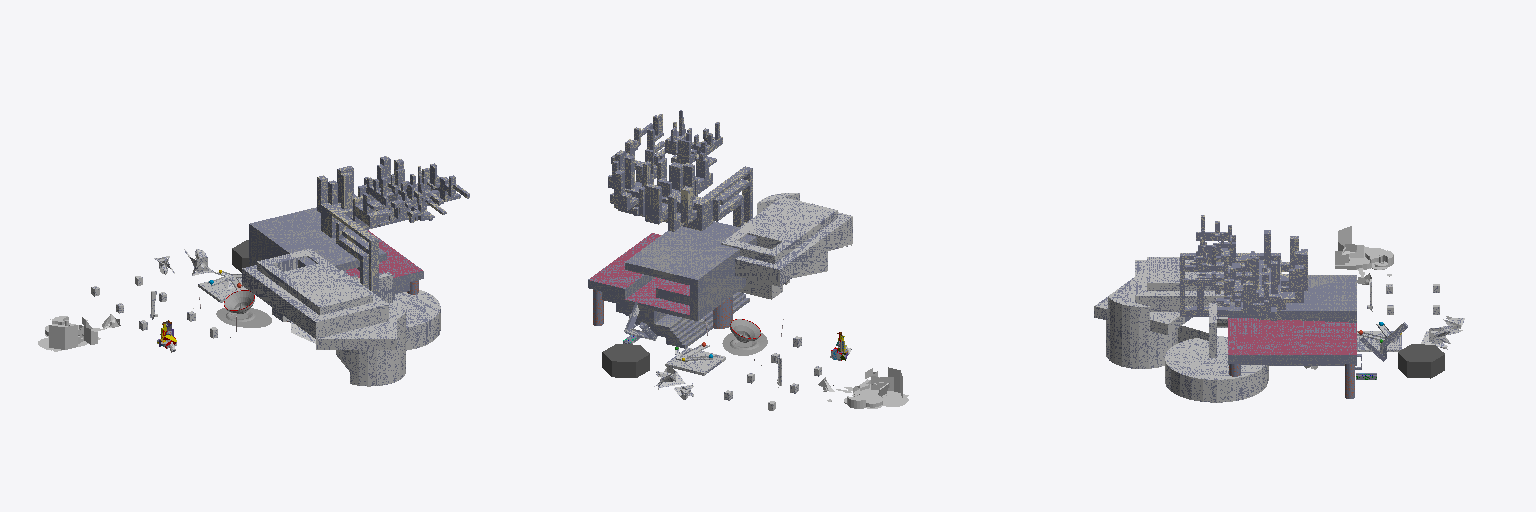
3 views of the same model, side by side, from view 1: azimuth 30°, elevation 25°; view 2: azimuth 150°, elevation 25°; view 3: azimuth 270°, elevation 25° (orthographic).
Visible parts, largest first — view 1: SketchUp.130_ID14.006, SketchUp.131_ID22.005, SketchUp.353_ID14.007, SketchUp.358_ID72.001, SketchUp.371_ID178.001, SketchUp.239_ID180.001, SketchUp.356_ID47.001, SketchUp.352_ID2.007, instance_30_ID165, SketchUp.368_ID154, SketchUp.366_ID138; view 2: SketchUp.353_ID14.007, SketchUp.130_ID14.006, SketchUp.131_ID22.005, SketchUp.358_ID72.001, SketchUp.356_ID47.001, SketchUp.239_ID180.001, SketchUp.371_ID178.001, SketchUp.170_ID167, SketchUp.352_ID2.007, SketchUp.355_ID39, SketchUp.374_ID202, group_14_ID105 (+5 smaller); view 3: SketchUp.130_ID14.006, SketchUp.353_ID14.007, SketchUp.352_ID2.007, SketchUp.358_ID72.001, SketchUp.355_ID39, SketchUp.239_ID180.001, SketchUp.170_ID167, SketchUp.131_ID22.005, SketchUp.366_ID138, SketchUp.371_ID178.001, SketchUp.369_ID162, SketchUp.368_ID154.
Part boxes in pixels (x1,y1,x2,y2): SketchUp.130_ID14.006: (242,256,440,386); SketchUp.131_ID22.005: (257,249,372,314); SketchUp.353_ID14.007: (250,207,423,299); SketchUp.358_ID72.001: (321,203,410,296); SketchUp.371_ID178.001: (351,166,429,226); SketchUp.239_ID180.001: (38,316,100,351); SketchUp.356_ID47.001: (249,224,305,267); SketchUp.352_ID2.007: (367,230,422,277); instance_30_ID165: (216,308,271,327); SketchUp.368_ID154: (407,163,446,220); SketchUp.366_ID138: (421,171,469,205); SketchUp.353_ID14.007: (588,221,755,348); SketchUp.130_ID14.006: (735,193,852,299); SketchUp.131_ID22.005: (721,197,837,263); SketchUp.358_ID72.001: (618,158,752,230); SketchUp.356_ID47.001: (698,237,756,320); SketchUp.239_ID180.001: (844,367,908,408); SketchUp.371_ID178.001: (665,110,722,196); SketchUp.170_ID167: (602,344,649,377); SketchUp.352_ID2.007: (588,233,660,288); SketchUp.355_ID39: (625,277,689,314); SketchUp.374_ID202: (645,184,667,224); group_14_ID105: (665,347,725,375); SketchUp.130_ID14.006: (1094,260,1281,402); SketchUp.353_ID14.007: (1228,275,1356,365); SketchUp.352_ID2.007: (1228,337,1356,354); SketchUp.358_ID72.001: (1180,253,1356,322); SketchUp.355_ID39: (1228,318,1356,336); SketchUp.239_ID180.001: (1335,226,1393,269); SketchUp.170_ID167: (1398,344,1444,378); SketchUp.131_ID22.005: (1147,257,1223,290); SketchUp.366_ID138: (1183,271,1268,312); SketchUp.371_ID178.001: (1194,215,1254,271); SketchUp.369_ID162: (1230,254,1258,306); SketchUp.368_ID154: (1187,245,1249,312).
Size of the model in its own units: 27.41 by 12.83 by 24.9.